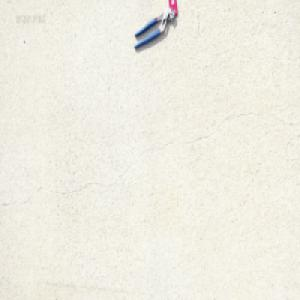Label: (168, 0, 180, 23)
Pliers: (133, 7, 175, 50)
